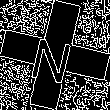N_N: (30, 26, 80, 84)
